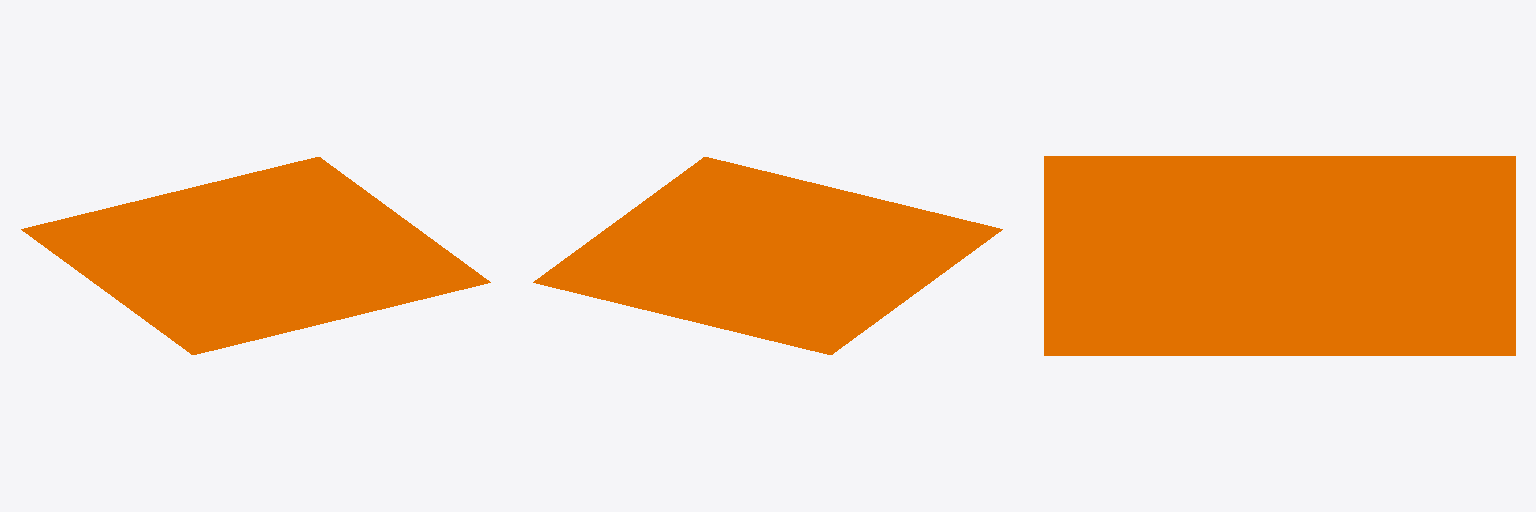
robot.urdf — orangetile:
<?xml version="0.0" ?>
<robot name="orangetile">
  <link name="tile">
  <contact>
      <lateral_friction value="1"/>
  </contact>
    <inertial>
      <origin rpy="0 0 0" xyz="0 0 0"/>
       <mass value=".0"/>
       <inertia ixx="0" ixy="0" ixz="0" iyy="0" iyz="0" izz="0"/>
    </inertial>
    <visual>
      <origin rpy="0 0 0" xyz="0 0 0"/>
      <geometry>
		<mesh filename="tile.obj" scale="1 1 1"/>
      </geometry>
       <material name="orange">
        <color rgba="1 0.5 0 1"/>
      </material>
    </visual>
    <collision>
      <origin rpy="0 0 0" xyz="0 0 0"/>
      <geometry>
	 	<plane normal="0 0 1"/>
      </geometry>
    </collision>
  </link>
</robot>

--- What the picture shows (computed from the rendered views, not written in the file) ---
The picture shows the robot from 3 angles, left to right: view 1: azimuth 30°, elevation 25°; view 2: azimuth 150°, elevation 25°; view 3: azimuth 270°, elevation 25°; orthographic projection.
Robot: orangetile — 1 links, 0 joints (none); root link tile; default pose: all joints at 0.
Links seen in each view (by area): view 1: tile; view 2: tile; view 3: tile.
Boxes of the visible links, left/top/right/bottom form: tile: left=21, top=157, right=490, bottom=354; tile: left=533, top=157, right=1002, bottom=354; tile: left=1044, top=156, right=1515, bottom=355.
Bounding box of the posed robot: 0.45 × 0.45 × 0 m (x, y, z).
1 mesh visuals loaded from 1 distinct referenced files (1 OBJ).
